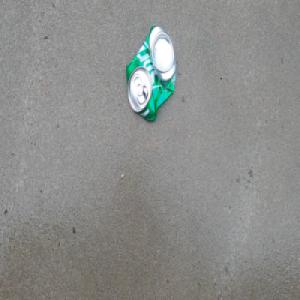SodaCan: (124, 23, 177, 123)
